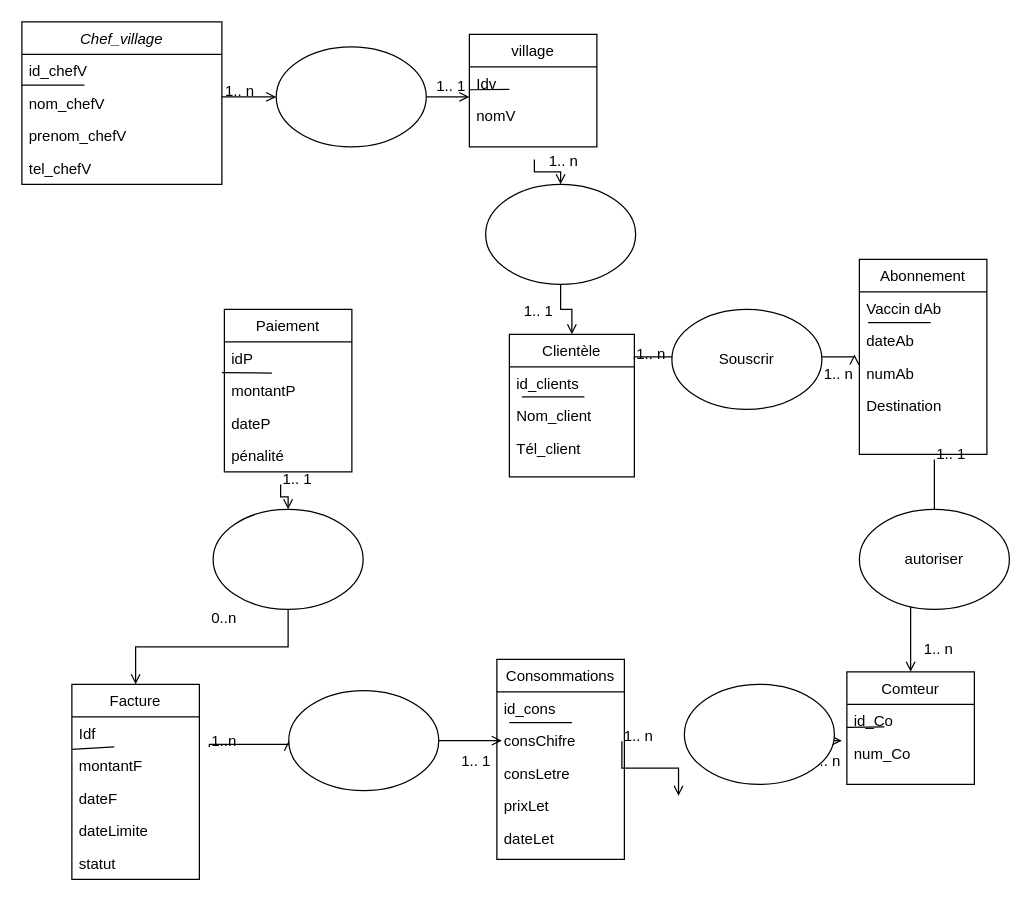
Some shapes in this 1031 by 905 pixel diagram are drawn without their labels. Each missing label, with the centre of its shape:
appartenir: point 560,233
avoir: point 350,96
enrigisterer: point 758,733
gégèrer: point 363,740
Régler: point 287,558
